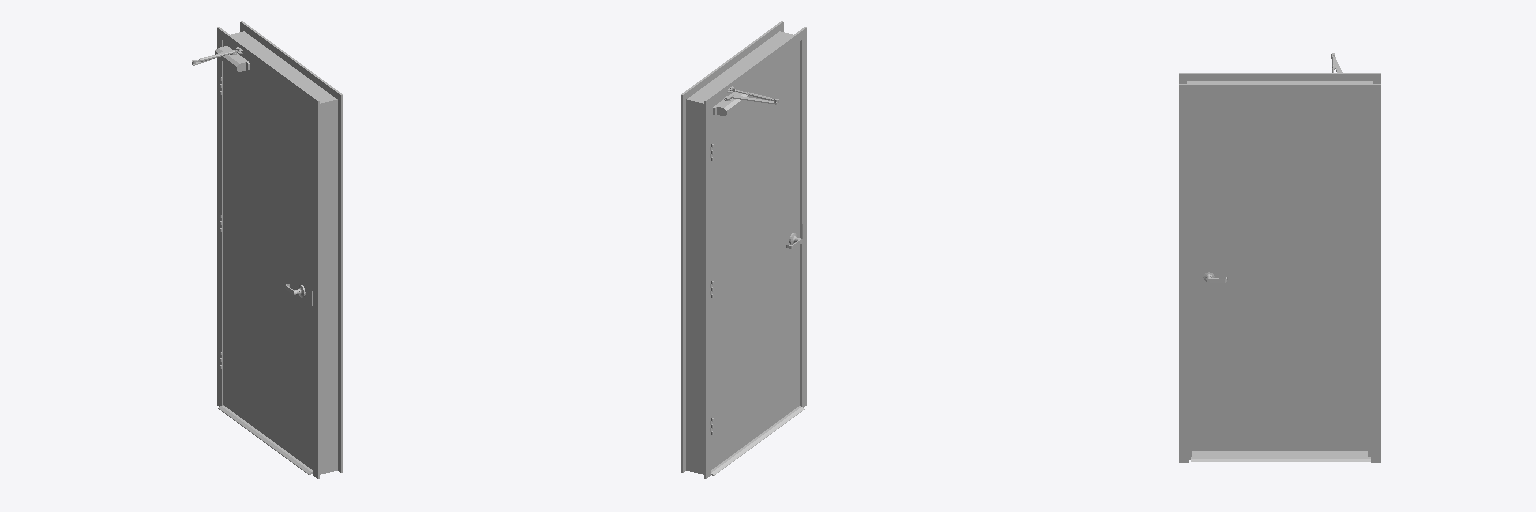
File: single_door_2.obj
3 renders of one model, left to right at view 1: azimuth 30°, elevation 25°; view 2: azimuth 150°, elevation 25°; view 3: azimuth 270°, elevation 25°, orthographic.
Visible parts, largest first — view 1: door_4x7_Cylinder.003, frame_4x7_Plane.015, floor_plate_4x7_Cube.002; view 2: door_4x7_Cylinder.003, frame_4x7_Plane.015, floor_plate_4x7_Cube.002; view 3: door_4x7_Cylinder.003, frame_4x7_Plane.015, floor_plate_4x7_Cube.002.
Boxes of the visible parts, <box> form: door_4x7_Cylinder.003: <box>221,41,312,469</box>; frame_4x7_Plane.015: <box>217,21,342,478</box>; floor_plate_4x7_Cube.002: <box>218,406,312,474</box>; door_4x7_Cylinder.003: <box>710,42,799,469</box>; frame_4x7_Plane.015: <box>681,21,806,478</box>; floor_plate_4x7_Cube.002: <box>711,406,804,475</box>; door_4x7_Cylinder.003: <box>1192,94,1367,450</box>; frame_4x7_Plane.015: <box>1179,73,1380,462</box>; floor_plate_4x7_Cube.002: <box>1191,451,1370,461</box>.
Bounding box in the file's own units: 0.4315 × 2.1 × 1.02.